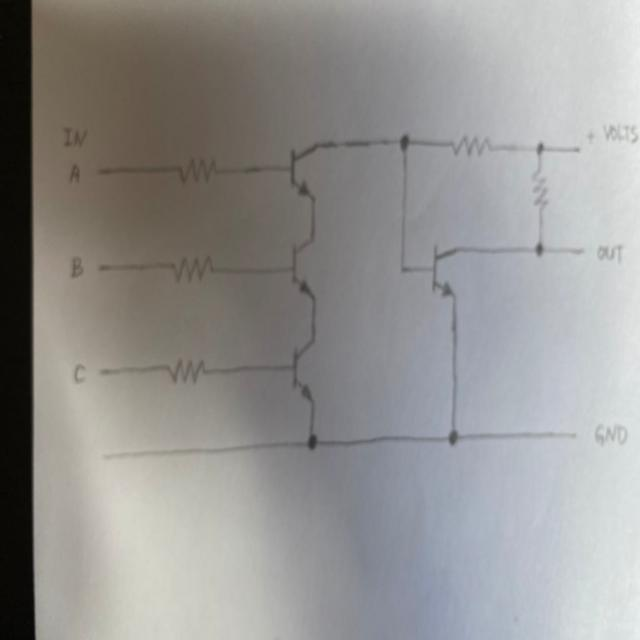junction: (298, 426, 324, 456), (441, 416, 461, 454), (392, 125, 413, 159), (530, 234, 551, 262), (529, 136, 549, 159)
resistor: (447, 126, 495, 165), (174, 154, 227, 188), (170, 253, 219, 288), (164, 353, 212, 388), (529, 165, 554, 211)
terminal: (574, 240, 588, 260), (567, 425, 581, 444), (93, 162, 107, 180), (94, 258, 107, 277), (95, 361, 107, 381), (571, 141, 585, 158), (100, 449, 110, 463)
text: (587, 411, 629, 450), (592, 235, 628, 271), (602, 116, 638, 145), (57, 120, 88, 150), (61, 158, 86, 188), (70, 353, 88, 389), (68, 252, 88, 280), (584, 121, 596, 150)
transistor: (286, 333, 332, 413), (424, 235, 466, 309), (287, 234, 329, 307), (284, 136, 328, 202)
